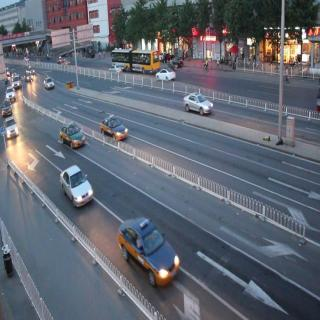BigCar: (111, 49, 160, 74)
Car: (118, 215, 182, 285), (59, 165, 95, 207), (183, 90, 215, 119), (100, 113, 127, 142), (59, 120, 86, 149), (3, 118, 20, 140), (155, 68, 176, 84), (42, 75, 56, 92), (108, 63, 124, 77), (1, 99, 13, 117), (167, 57, 184, 69), (4, 85, 16, 102), (12, 74, 21, 92), (84, 48, 95, 60)
